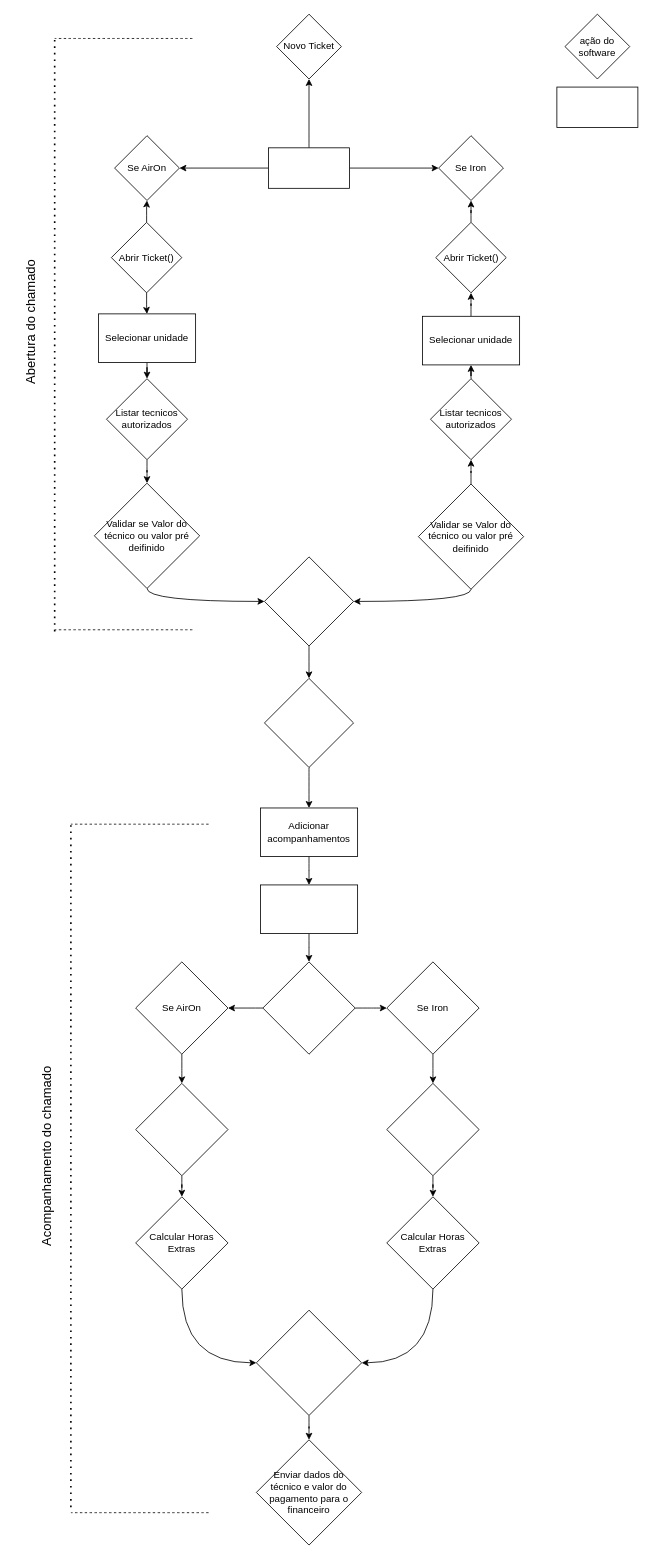
Some shapes in this 652 by 1559 pixel diagram are drawn without their labels. Here are the shapes that lost their labels. From the top down, the centre of each, then its label:
At (x=597, y=107): "Ação do usuário".
At (x=309, y=167): "Identificar origem do ticket".
At (x=309, y=601): "Gera Ticket".
At (x=309, y=722): "Notificar ticket".
At (x=309, y=909): "Solucionar Ticket".
At (x=308, y=1007): "Solicitar inicio e encerramento ticket".
At (x=181, y=1129): "Cotar euro".
At (x=432, y=1129): "Cotar dólar".
At (x=309, y=1362): "Enviar notificação para o usuário responsável com valores".
